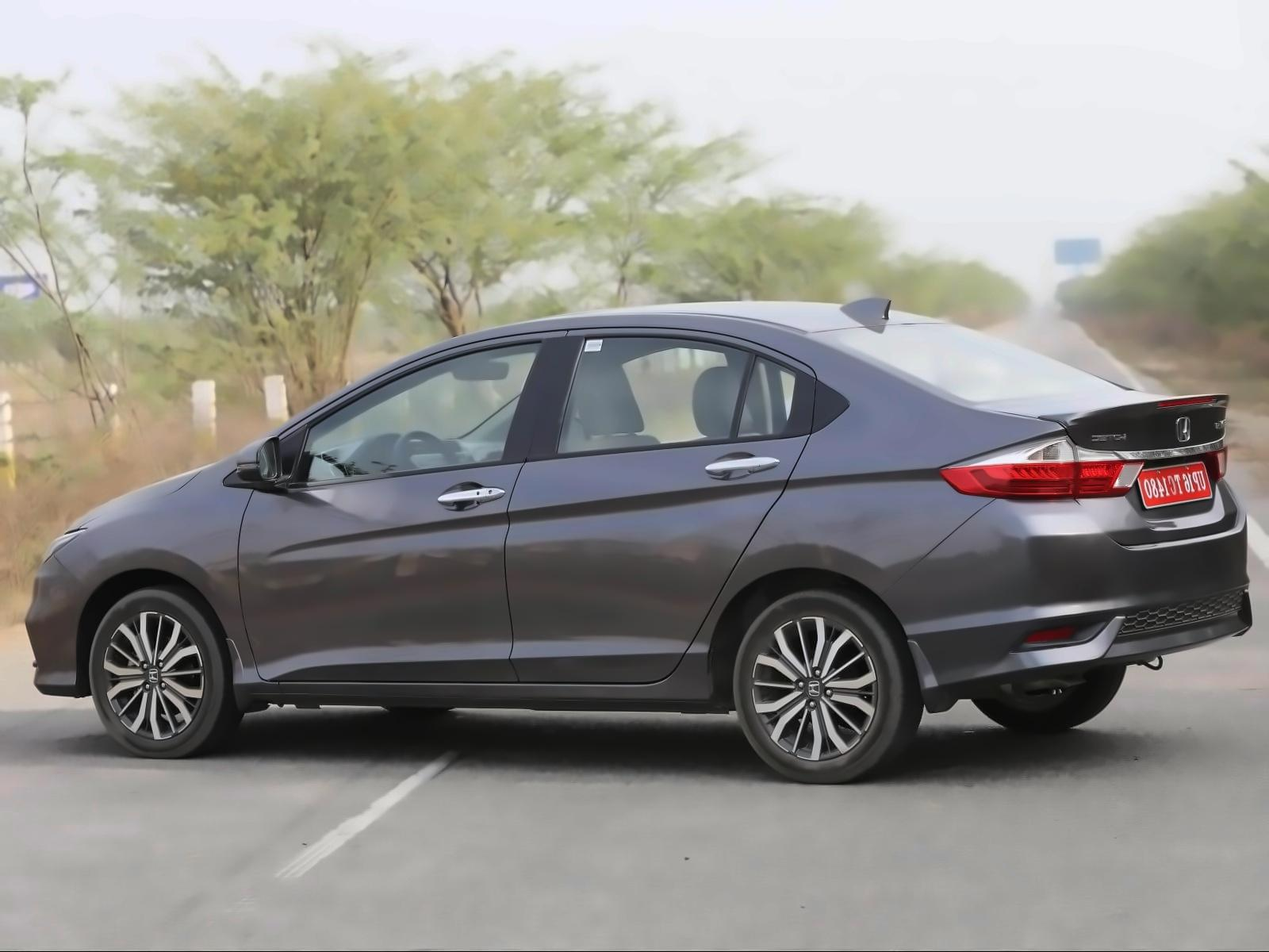Car boot: (990, 384, 1245, 556)
Car hood: (57, 465, 210, 535)
Fender - -F-L-: (58, 459, 259, 690)
Fender - -R-L-: (709, 401, 1006, 658)
Front bumper: (21, 567, 103, 708)
Headlight - -L-: (30, 521, 94, 567)
Passenger-s door - -F-L-: (233, 322, 520, 691)
Passenger-s door - -R-L-: (520, 321, 817, 689)
Rear bumper: (906, 495, 1257, 713)
Rear light - -L-: (925, 424, 1153, 511)
Side bumper - -L-: (217, 635, 746, 721)
Side mirror - -L-: (217, 425, 292, 486)
